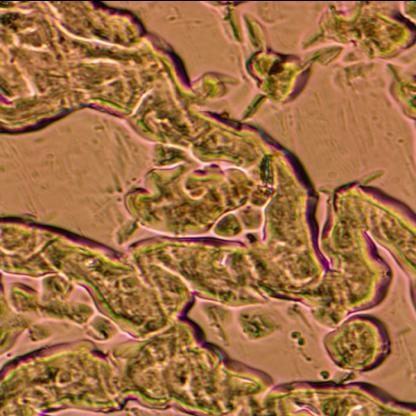Normal: (0, 138, 416, 416)
